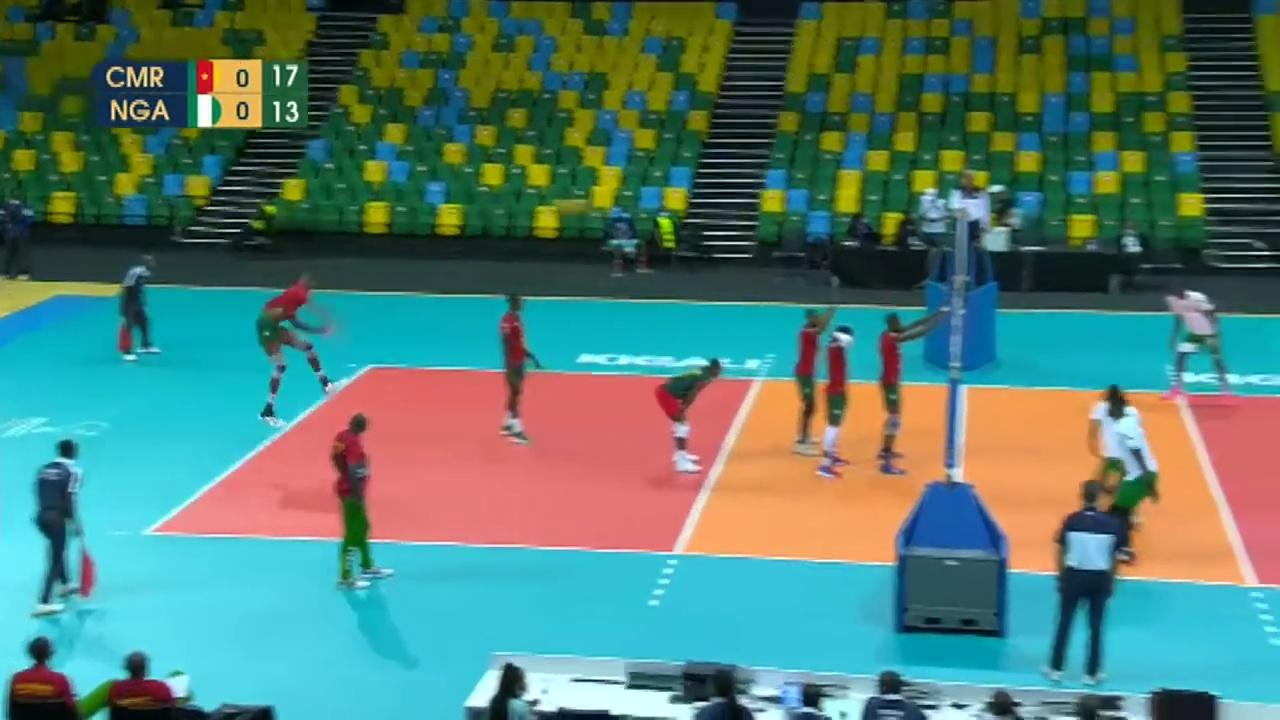player: (258, 270, 341, 417), (1094, 401, 1158, 561), (651, 356, 727, 474), (1165, 282, 1239, 402), (880, 314, 930, 474), (1089, 382, 1140, 526), (493, 291, 537, 438), (814, 329, 856, 479), (791, 302, 829, 456)
refree: (1048, 485, 1132, 680), (31, 442, 97, 610), (945, 168, 994, 277), (117, 256, 164, 360)
